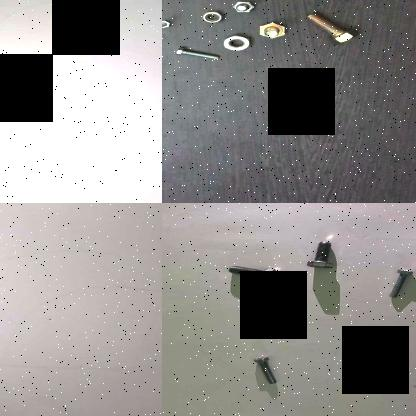Bolts: (303, 11, 363, 47), (246, 353, 290, 386), (305, 239, 347, 269), (228, 263, 286, 283), (383, 266, 416, 300), (172, 42, 224, 63), (255, 19, 291, 39), (228, 0, 258, 12), (162, 18, 174, 33)
NUTS: (222, 34, 254, 52), (200, 9, 226, 24)
